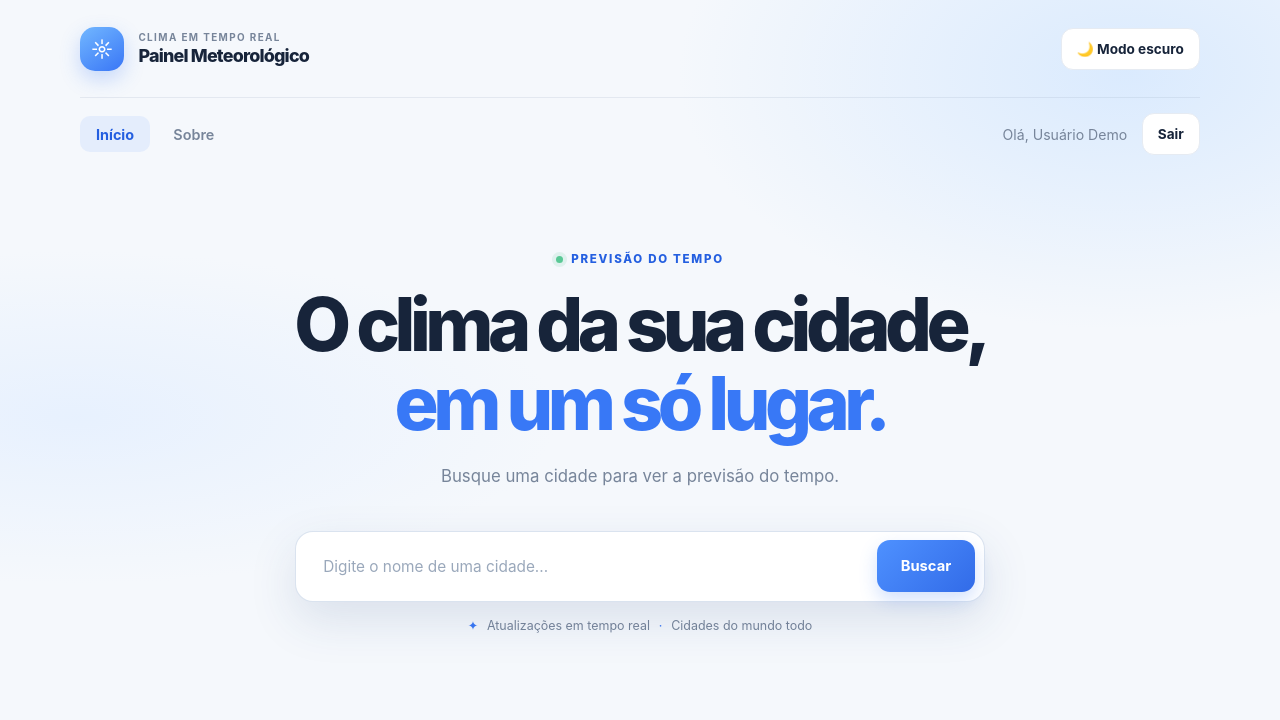
Test: Fluxo de autenticação (integração) › faz logout: remove o token e volta a proteger o painel
The width and height of the screenshot is (1280, 720).
Click the button "Sair". click: (1171, 134)
box: left=1142, top=113, right=1200, bottom=155
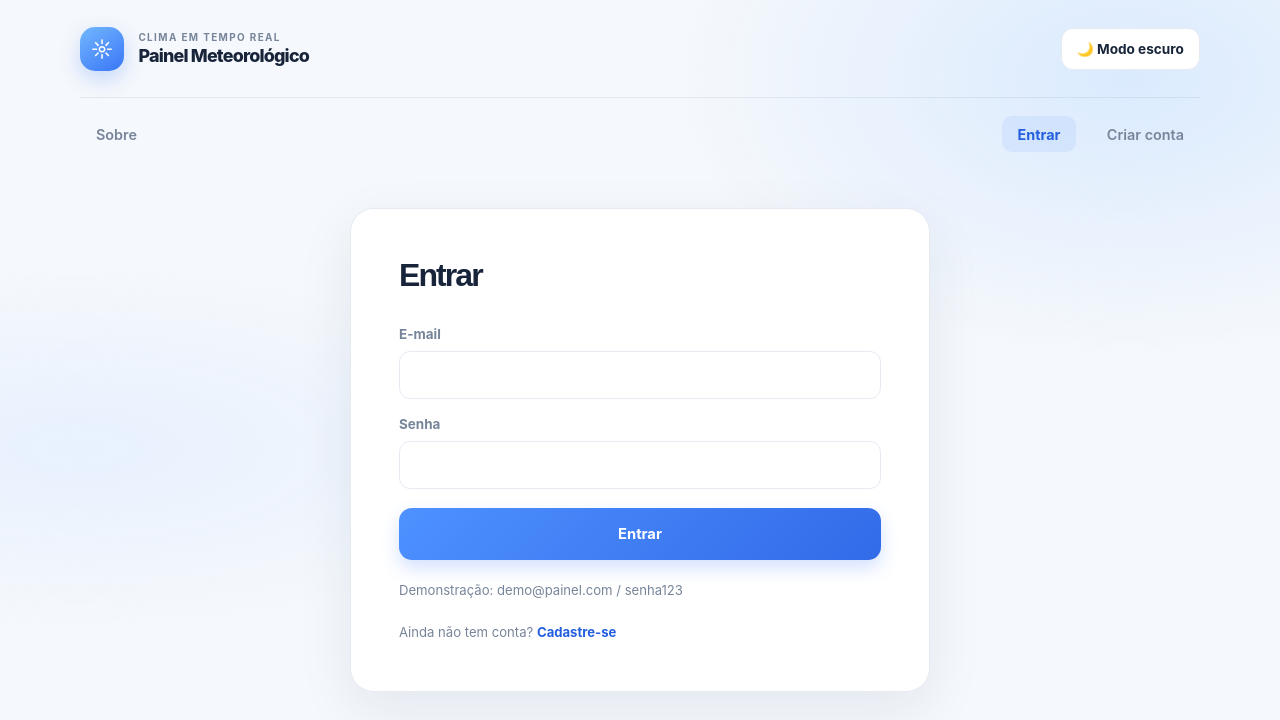
Expected: the heading "Entrar" is shown, left=399, top=257, right=482, bottom=293
Expected: the text "Olá, Usuário Demo" is gone
